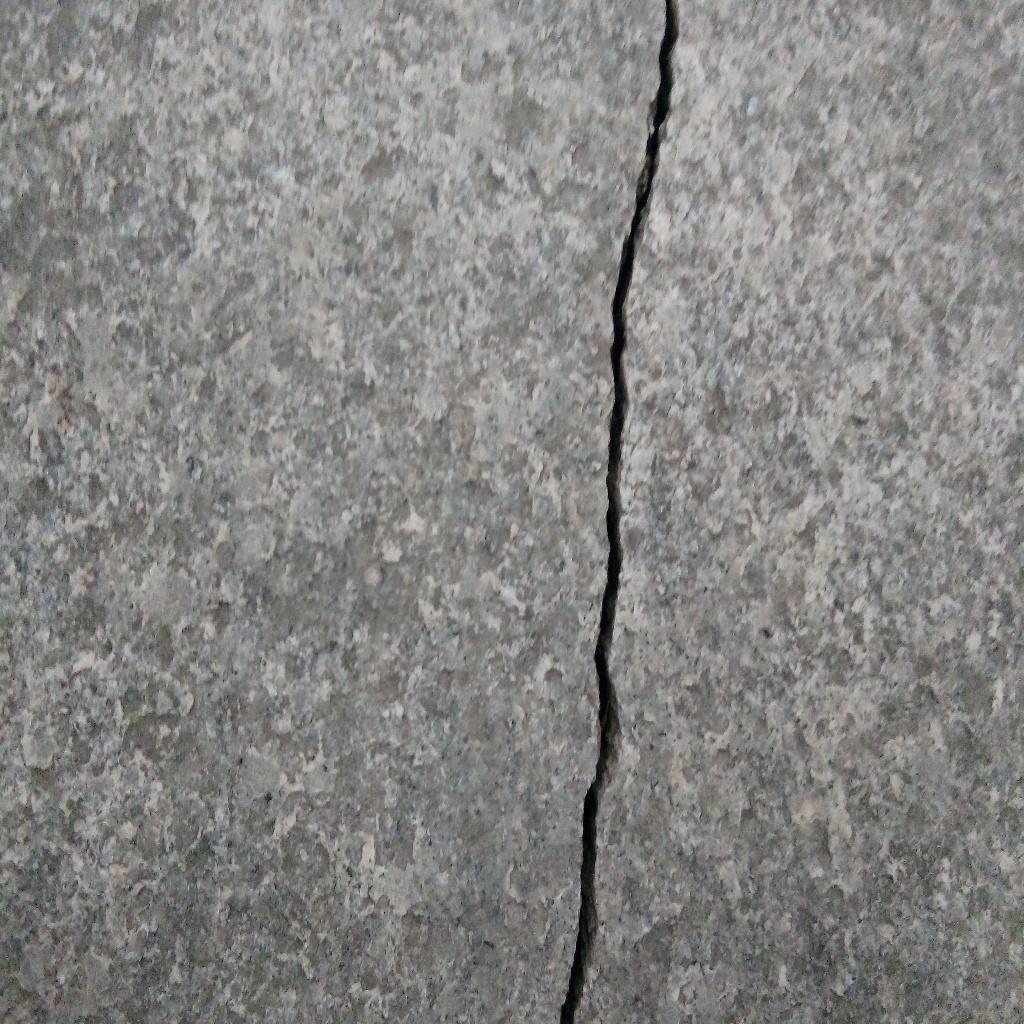Crack: (558, 1, 680, 1024)
